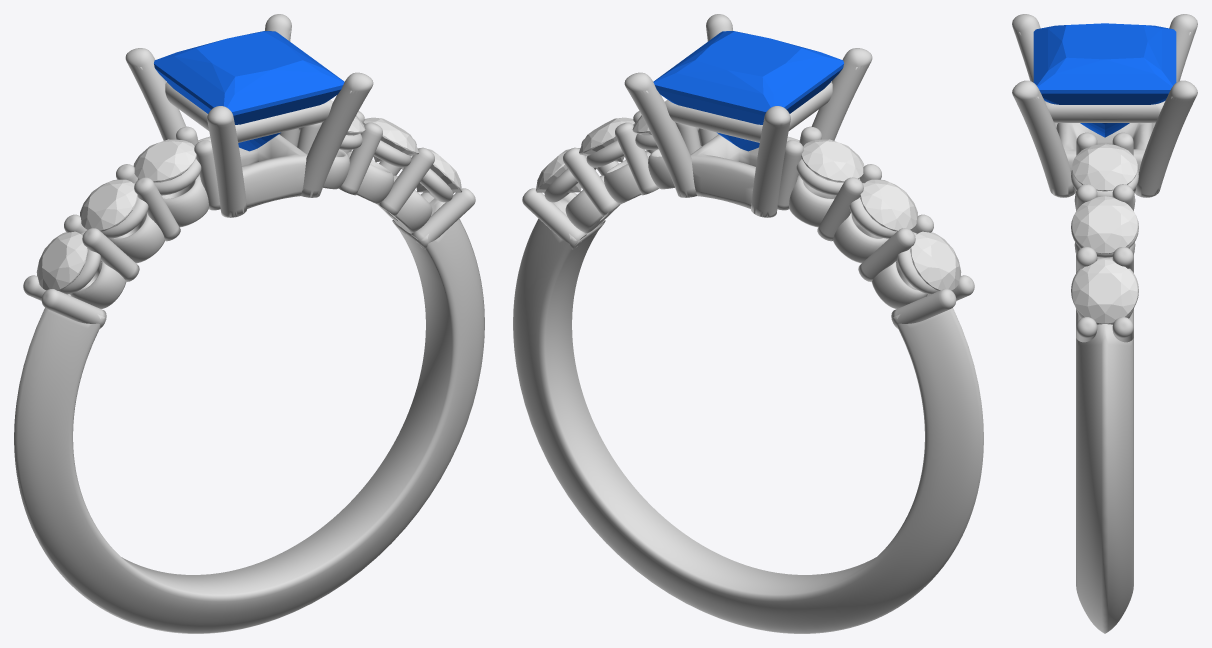
File: bluesapphire-princess-platinum-4prong-knifeedge-7stone.glb
3 views of the same model, side by side, from view 1: azimuth 30°, elevation 25°; view 2: azimuth 150°, elevation 25°; view 3: azimuth 270°, elevation 25° (orthographic).
Visible parts, largest first — view 1: metal, stone, side, side.001, side.002, side.004, side.005; view 2: metal, stone, side, side.001, side.002, side.004, side.005; view 3: metal, stone, side.005, side.004, side.003.
Part boxes in pixels (box(x1,y1,x2,y2)): metal: box(14, 14, 484, 633); stone: box(154, 31, 344, 151); side: box(36, 231, 87, 290); side.001: box(80, 179, 137, 231); side.002: box(133, 139, 196, 182); side.004: box(363, 117, 418, 162); side.005: box(416, 148, 461, 192); metal: box(513, 14, 983, 633); stone: box(653, 31, 843, 151); side: box(910, 231, 961, 290); side.001: box(860, 179, 917, 231); side.002: box(801, 139, 864, 182); side.004: box(579, 117, 634, 162); side.005: box(536, 148, 581, 192); metal: box(1012, 14, 1197, 633); stone: box(1033, 23, 1176, 137); side.005: box(1072, 260, 1137, 323); side.004: box(1072, 196, 1137, 253); side.003: box(1072, 143, 1137, 191).
Bounding box in the file's own units: 20.5 × 23.85 × 7.08.
